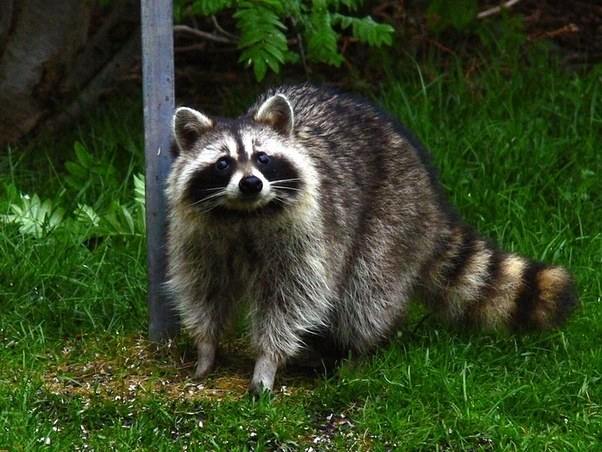raccoon: (159, 65, 580, 394)
